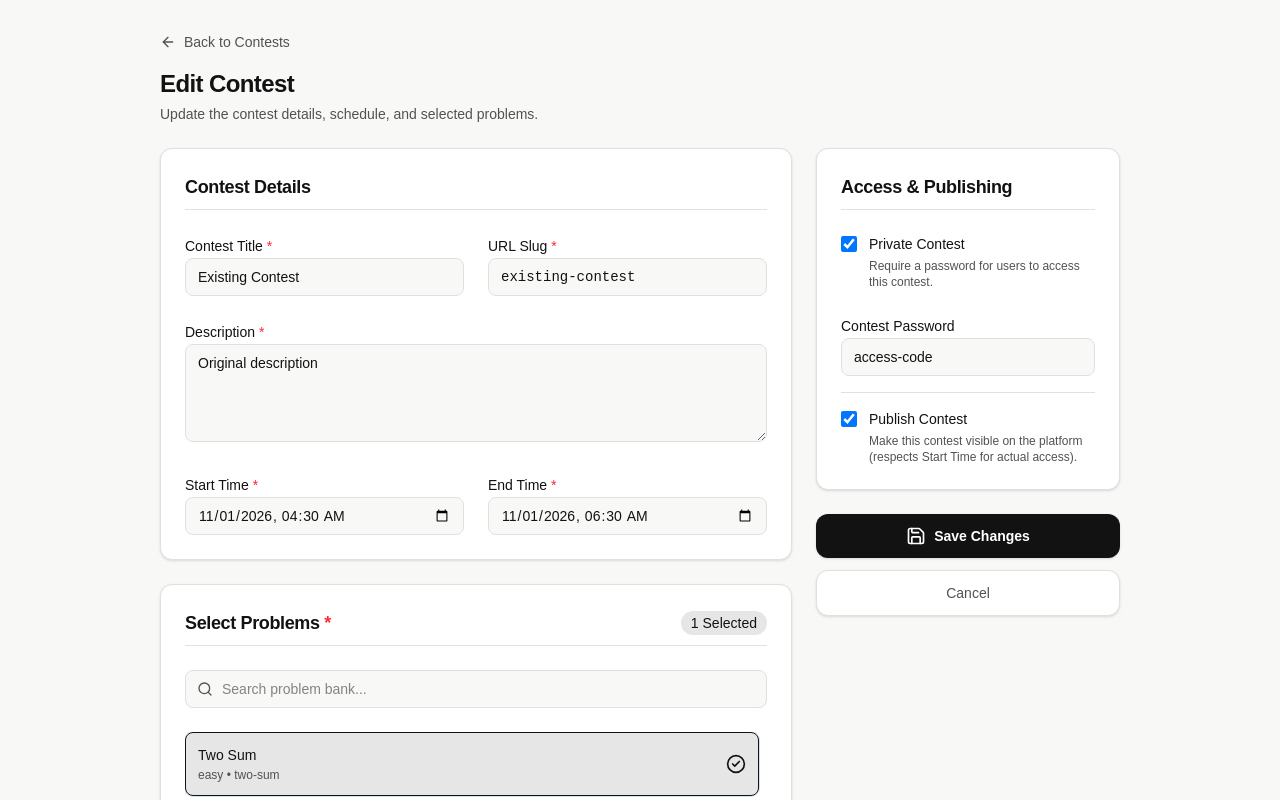
Test: validates scheduling and retains form values after a failed save
Expected: the field labelled "Contest Title *" is shown, [185,258,464,296]
Replace the text in the field labelled "End Time *" with "2026-10-01T10:00" at point(628, 516), box [488,497,767,535]
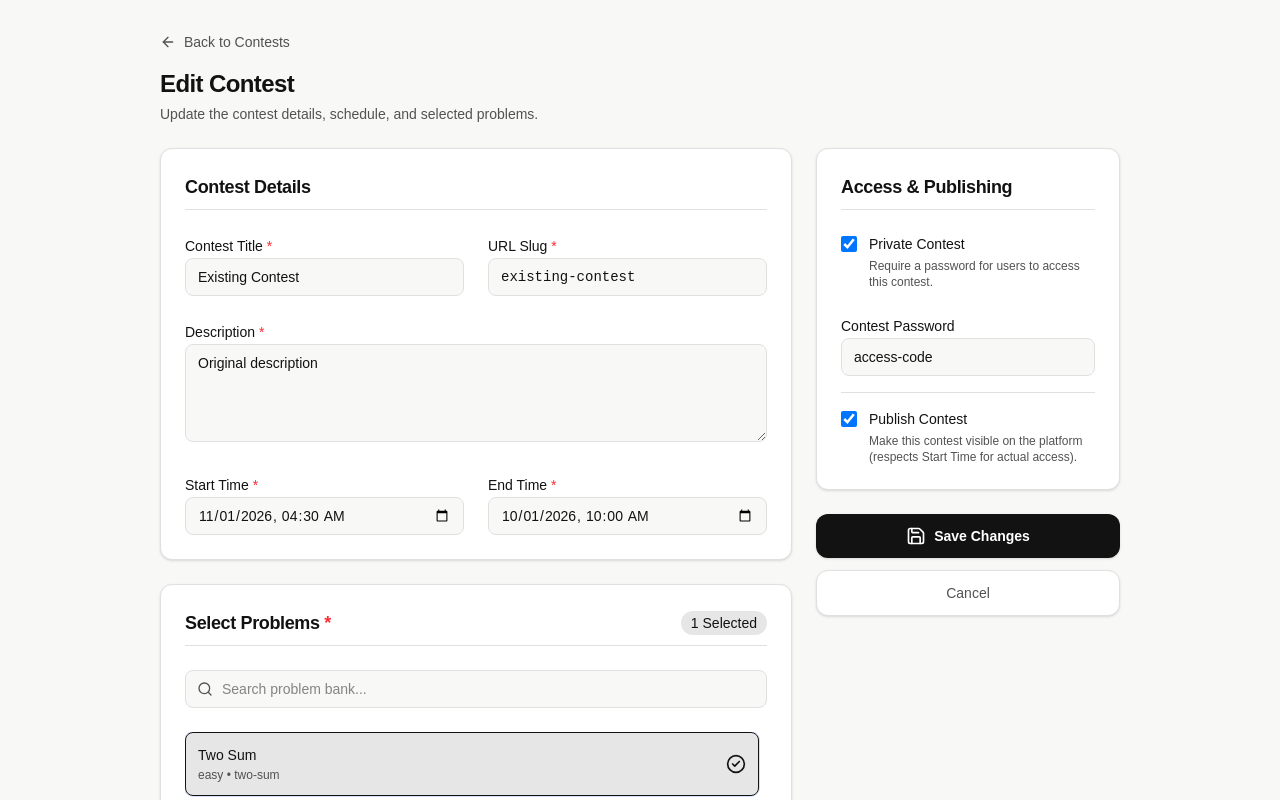
Click the button "Save Changes" at point(968, 536), box [816,514,1120,558]
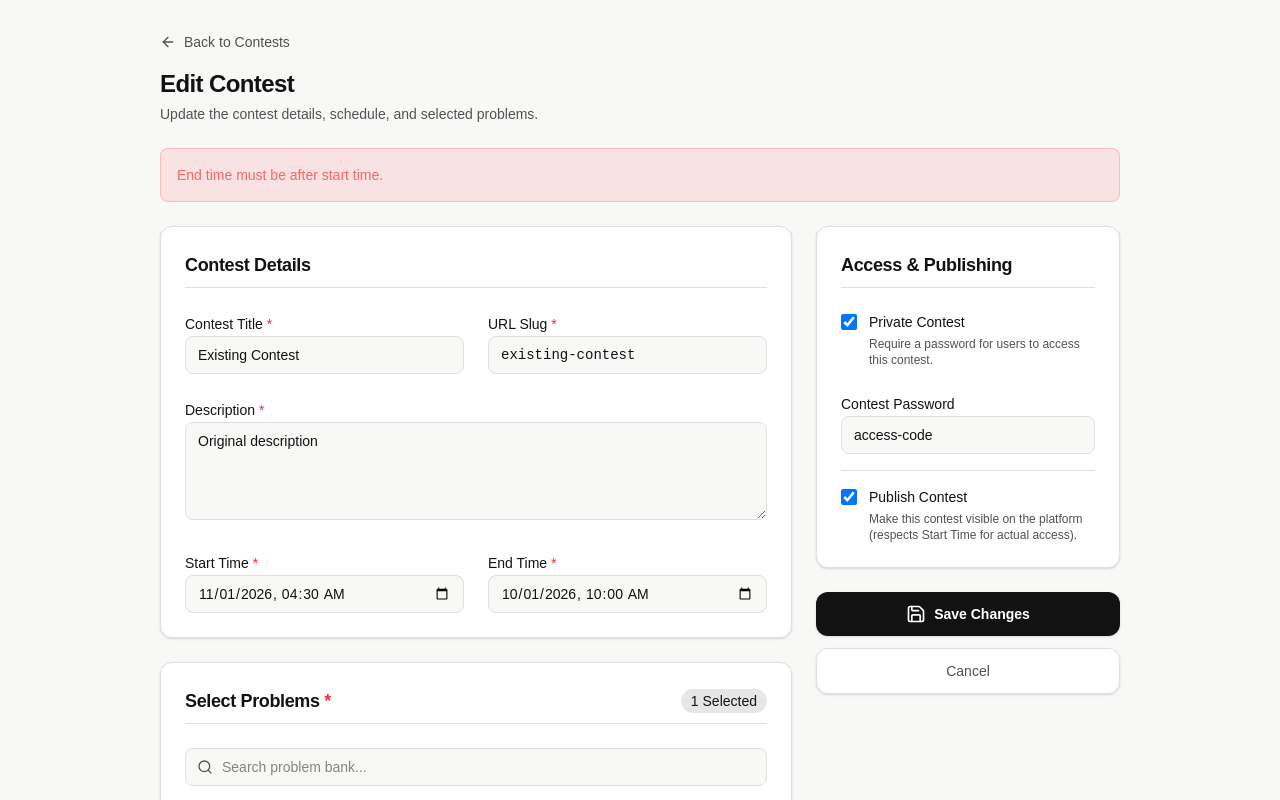
Result: the message shows "End time must be after start time" at [177,167,383,183]
Replace the text in the field labelled "End Time *" with "2026-11-02T10:00" at point(628, 594), box [488,575,767,613]
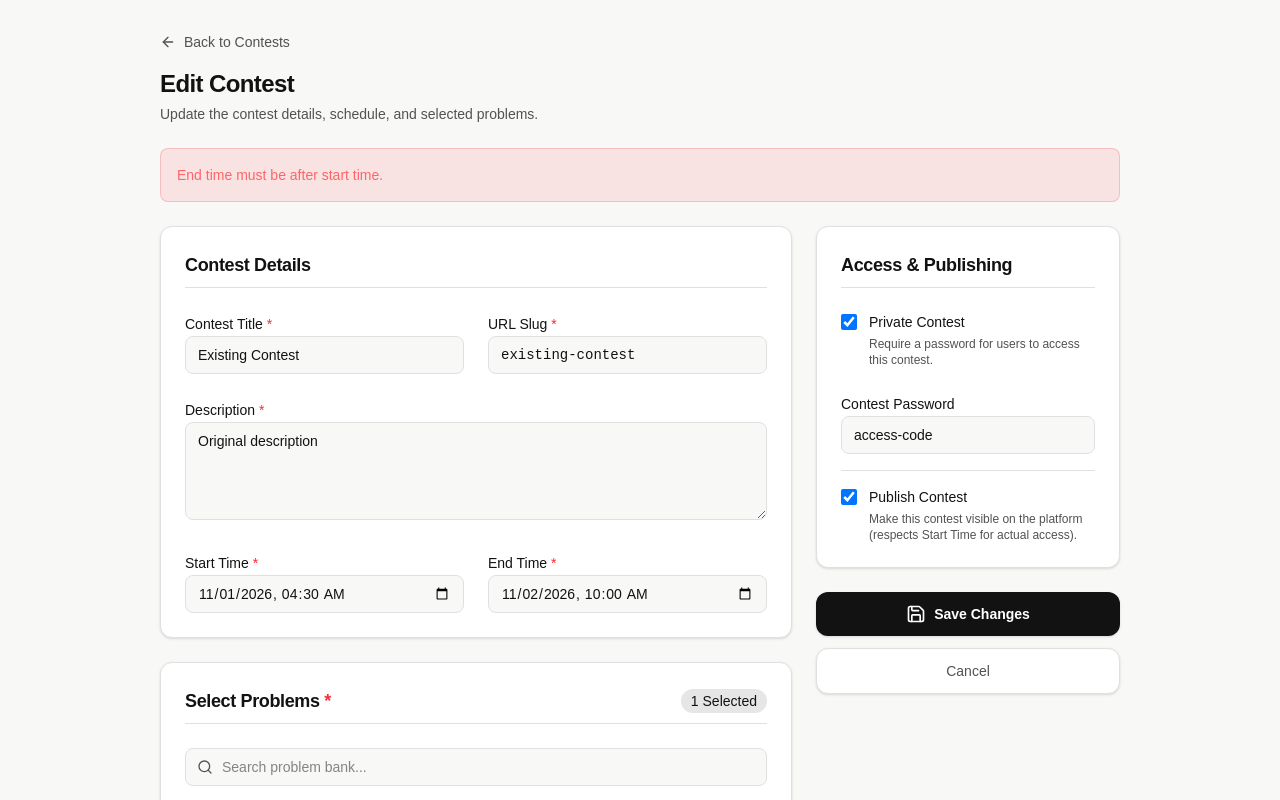
Click the button "Save Changes" at point(968, 614), box [816,592,1120,636]
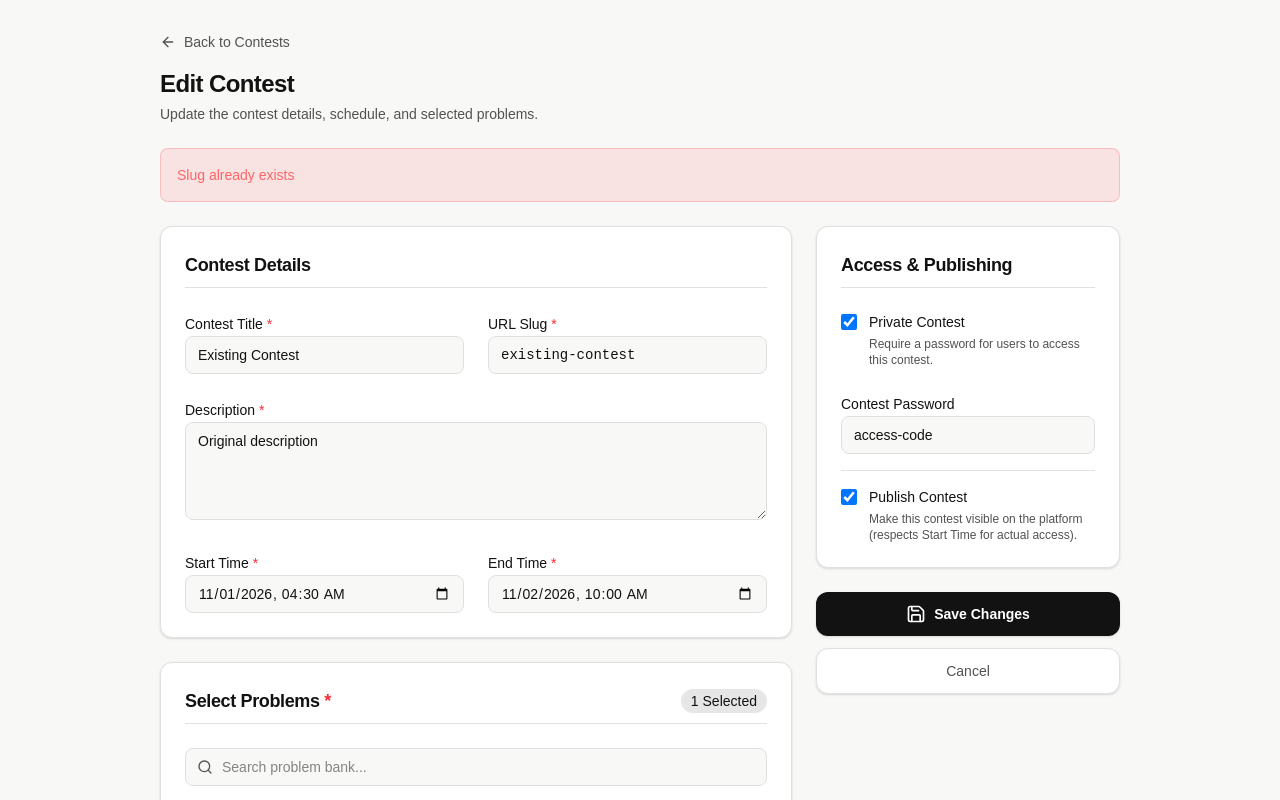
Expected: the field labelled "Contest Title *" holds "Existing Contest", [185,336,464,374]
Result: the message reads "Slug already exists" at [177,167,294,183]
